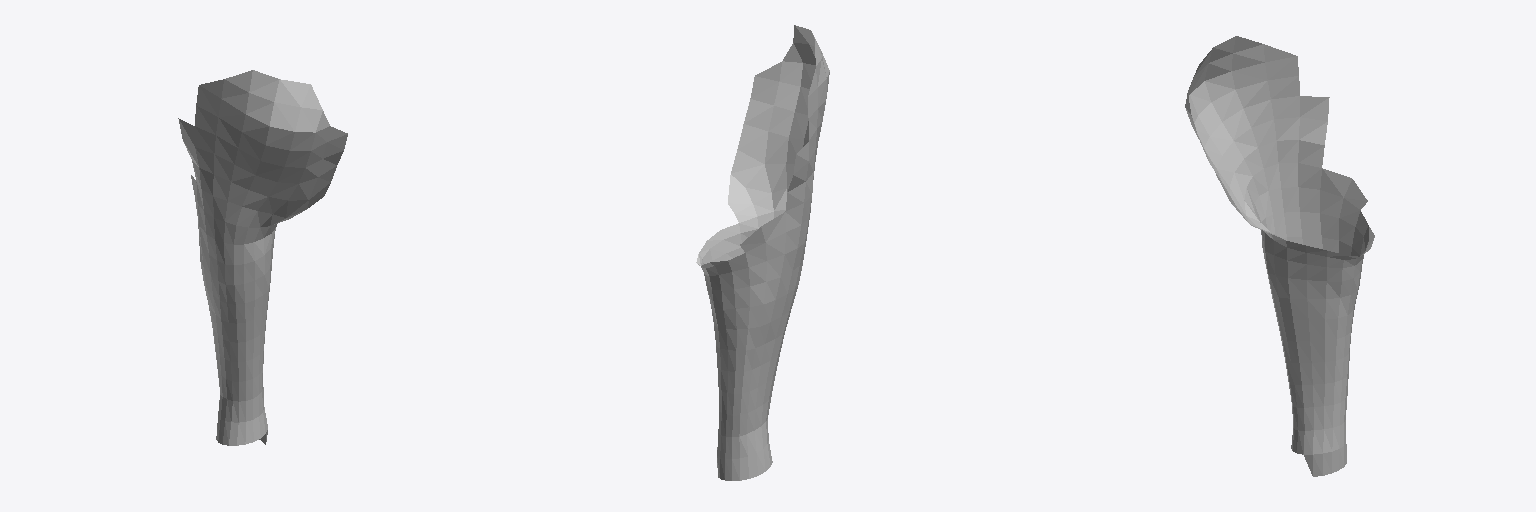
Rendered from Jpatafd.obj.
3 renders of one model, left to right at view 1: azimuth 30°, elevation 25°; view 2: azimuth 150°, elevation 25°; view 3: azimuth 270°, elevation 25°, orthographic.
Visible parts, largest first — view 1: Pata_FD; view 2: Pata_FD; view 3: Pata_FD.
Boxes of the visible parts, <box> form: Pata_FD: <box>178,70,347,445</box>; Pata_FD: <box>696,25,829,480</box>; Pata_FD: <box>1185,36,1374,476</box>.
Size of the model in its own units: 0.2055 by 0.773 by 0.32.